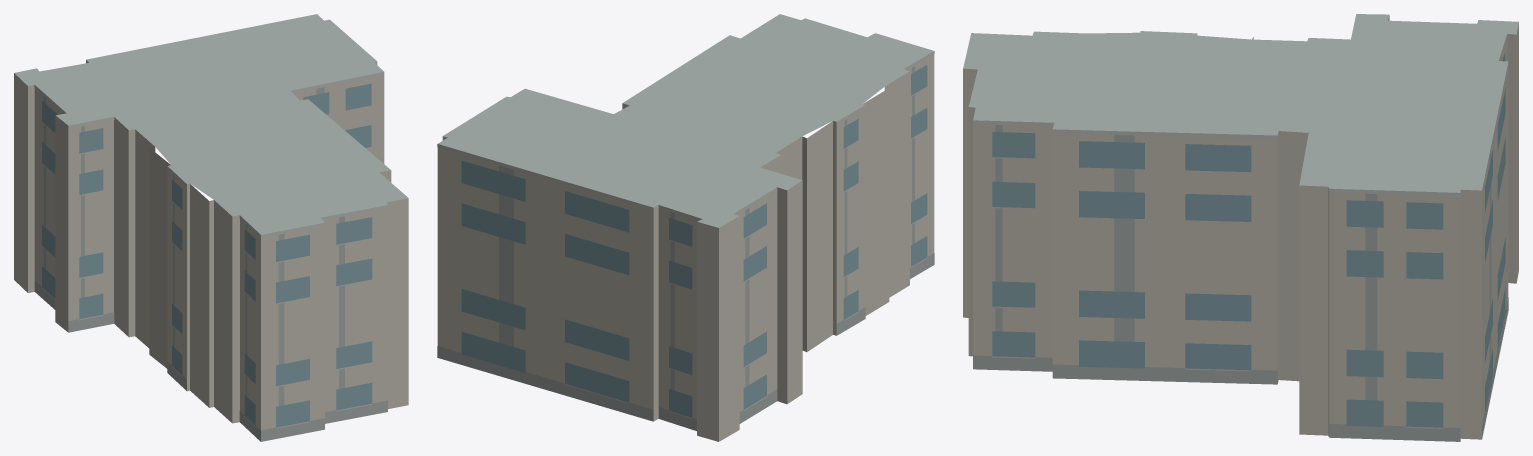
The model's file is survey-upis-32823785.glb.
3 renders of one model, left to right at view 1: azimuth 30°, elevation 25°; view 2: azimuth 150°, elevation 25°; view 3: azimuth 270°, elevation 25°, orthographic. The views are drawn at different scales.
Parts seen in each view (by area): view 1: survey-upis-32823785.tmp; view 2: survey-upis-32823785.tmp; view 3: survey-upis-32823785.tmp.
Part boxes in pixels (left/top/right/bottom): survey-upis-32823785.tmp: left=14, top=14, right=408, bottom=441; survey-upis-32823785.tmp: left=437, top=14, right=934, bottom=441; survey-upis-32823785.tmp: left=963, top=14, right=1518, bottom=441.
Size of the model in its own units: 23.81 by 15.45 by 31.26.
